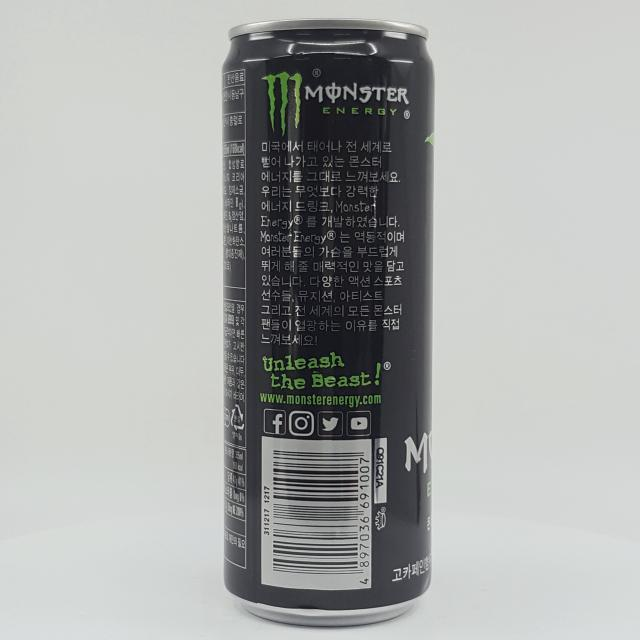--------355ML: (222, 18, 434, 626)
